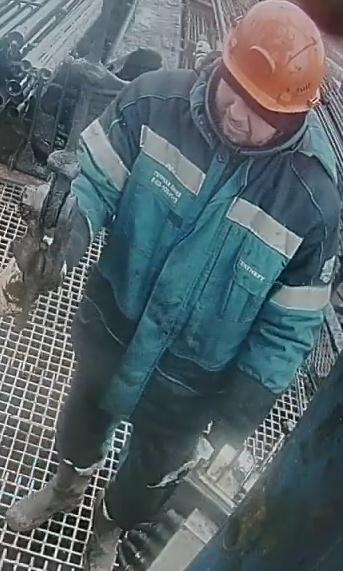helmet: (220, 0, 326, 114)
vest: (88, 65, 341, 418)
